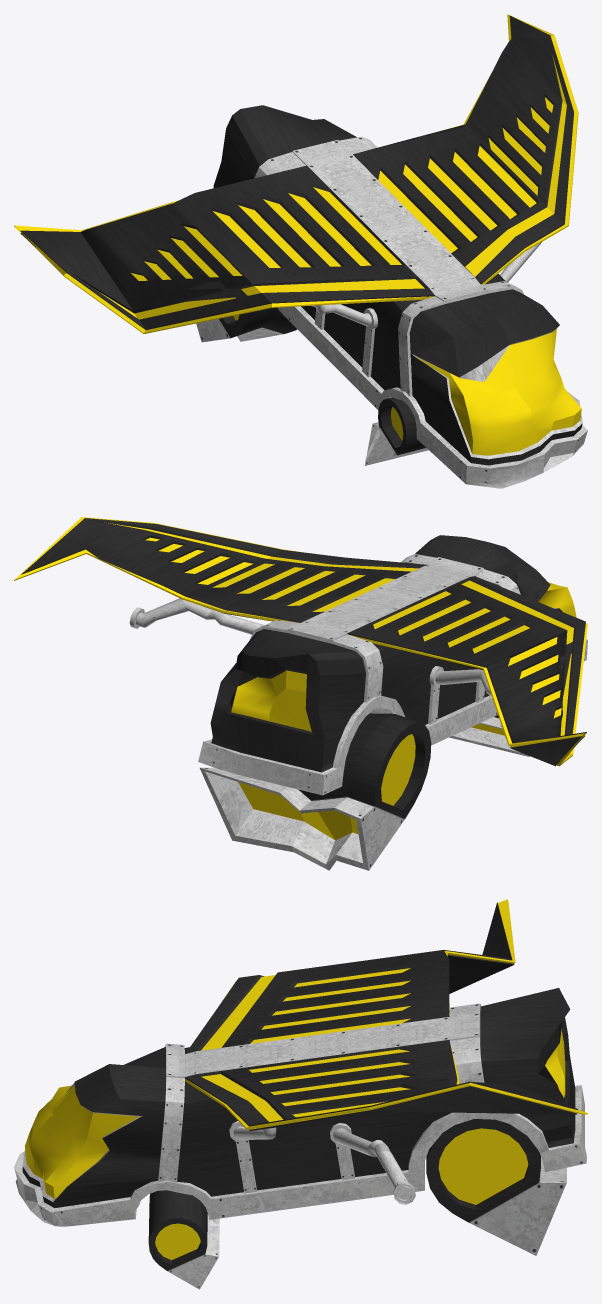
Rendered from TheBus_40.fbx.
3 renders of one model, top to bottom at view 1: azimuth 30°, elevation 25°; view 2: azimuth 150°, elevation 25°; view 3: azimuth 270°, elevation 25°, orthographic. The views are drawn at different scales.
Visible parts, largest first — view 1: Body, FrontThrust, Back_Thrust, pipe1; view 2: Body, Back_Thrust, pipe4, FrontThrust, pipe2; view 3: Body, Back_Thrust, FrontThrust, pipe4, pipe3.
Part boxes in pixels (x1,y1,x2,y2): Body: [14, 14, 587, 488]; FrontThrust: [364, 397, 428, 465]; Back_Thrust: [196, 307, 297, 342]; pipe1: [311, 304, 377, 329]; Body: [14, 517, 587, 795]; Back_Thrust: [199, 713, 431, 870]; pipe4: [129, 598, 264, 634]; FrontThrust: [449, 715, 529, 756]; pipe2: [429, 666, 491, 695]; Body: [14, 899, 587, 1226]; Back_Thrust: [426, 1119, 566, 1255]; FrontThrust: [148, 1190, 219, 1289]; pipe4: [330, 1123, 415, 1204]; pipe3: [229, 1121, 276, 1142].
Bounding box in the file's own units: 6.13 × 3.07 × 5.53.
